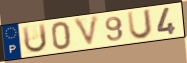0: (50, 20, 72, 51)
4: (156, 7, 179, 37)
9: (104, 15, 124, 42)
U: (126, 8, 154, 41), (21, 22, 49, 55)
V: (72, 14, 101, 49)
